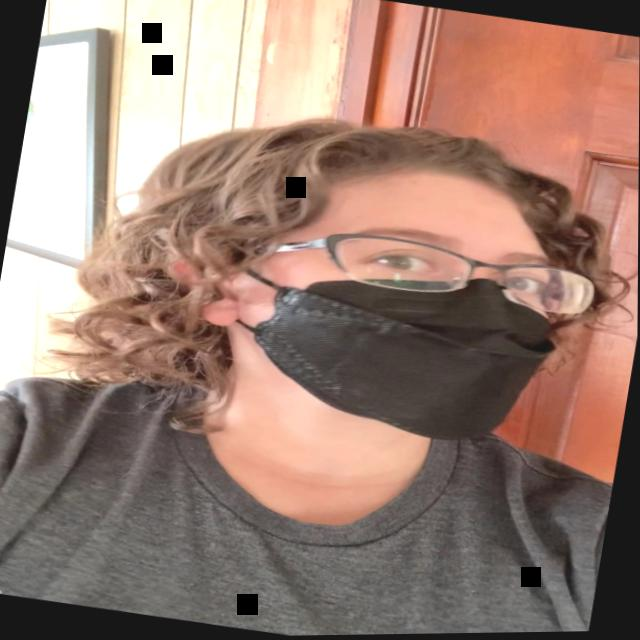Mask: (190, 137, 586, 462)
